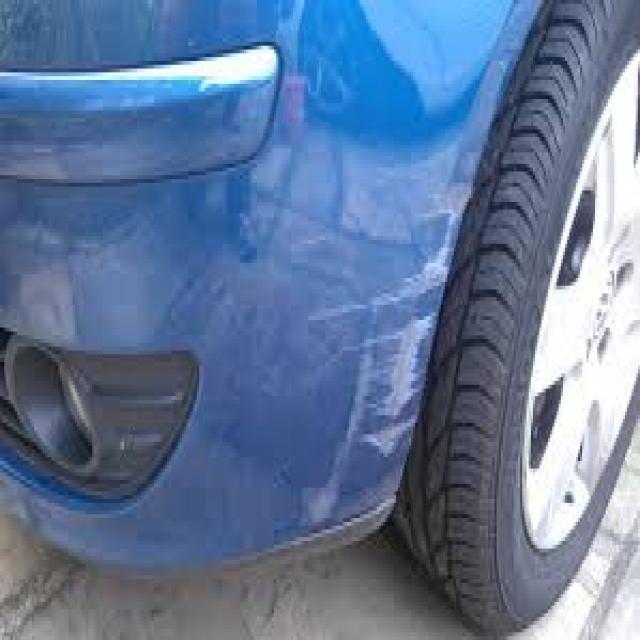minor: (300, 124, 412, 575)
